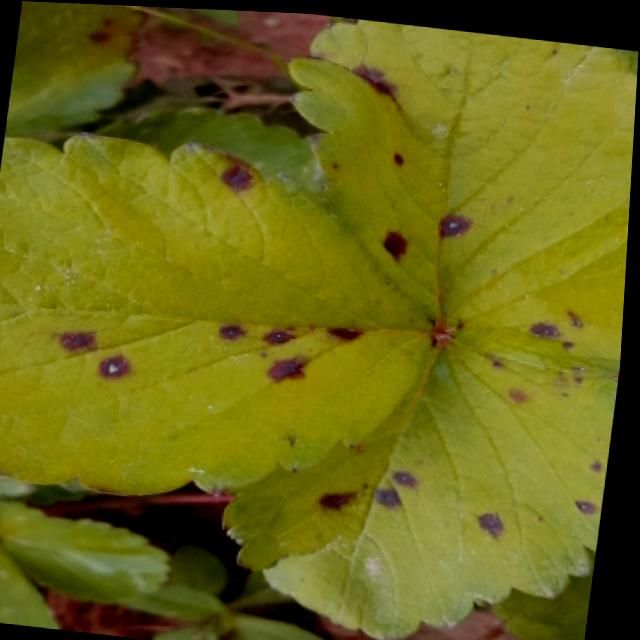Leaf Spot: (0, 132, 441, 495), (195, 327, 622, 640), (288, 13, 638, 370), (6, 1, 152, 139)
